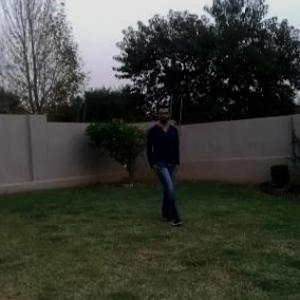follow: (149, 104, 183, 218)
